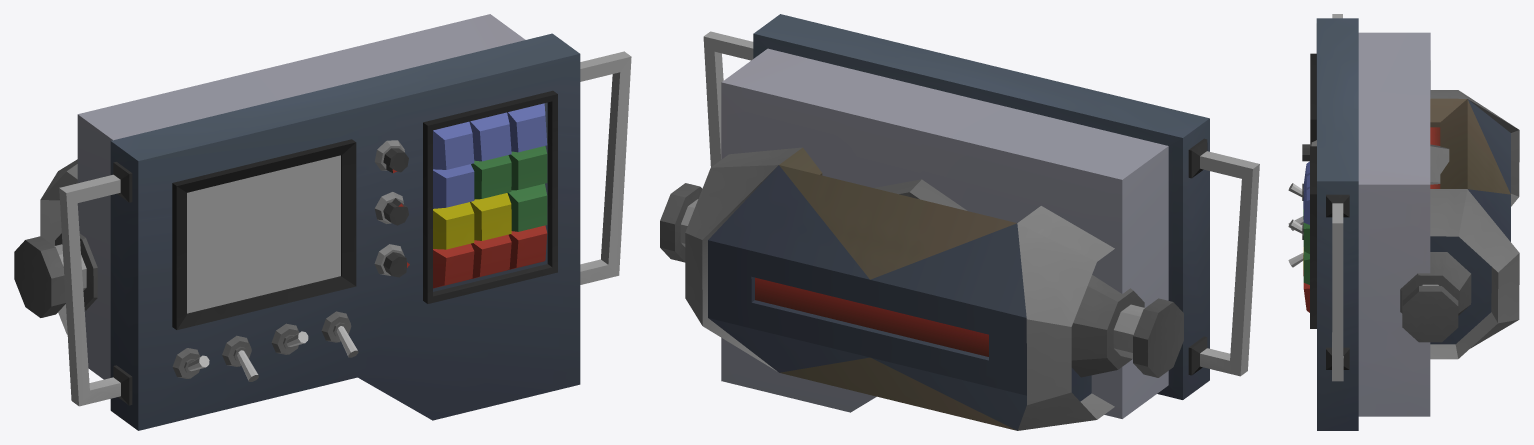
File: Asset_Minijuegos.fbx
3 renders of one model, left to right at view 1: azimuth 30°, elevation 25°; view 2: azimuth 150°, elevation 25°; view 3: azimuth 270°, elevation 25°, orthographic. The views are drawn at different scales.
Parts seen in each view (by area): view 1: Panel_soloCarcaza, Panel_detalles, Pantalla_Panel, Bateria_decoracion; view 2: Panel_soloCarcaza, Bateria_cuerpo, Bateria_decoracion, Panel_detalles; view 3: Panel_soloCarcaza, Bateria_decoracion, Bateria_cuerpo, Panel_detalles.
Part boxes in pixels (x1,y1,x2,y2): Panel_soloCarcaza: (77, 14, 580, 430); Panel_detalles: (59, 51, 631, 406); Pantalla_Panel: (187, 155, 340, 313); Bateria_decoracion: (14, 159, 97, 334); Panel_soloCarcaza: (721, 14, 1209, 418); Bateria_cuerpo: (708, 147, 1026, 430); Bateria_decoracion: (660, 147, 1183, 430); Panel_detalles: (703, 31, 1259, 376); Panel_soloCarcaza: (1316, 18, 1430, 430); Bateria_decoracion: (1400, 90, 1519, 359); Bateria_cuerpo: (1430, 98, 1510, 241); Panel_detalles: (1288, 14, 1449, 381).
Size of the model in its own units: 39.3 by 22.01 by 18.44.
